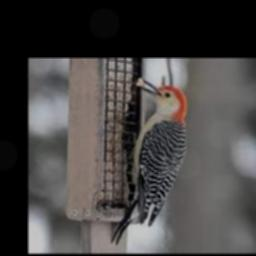Woodpecker: (111, 79, 186, 245)
